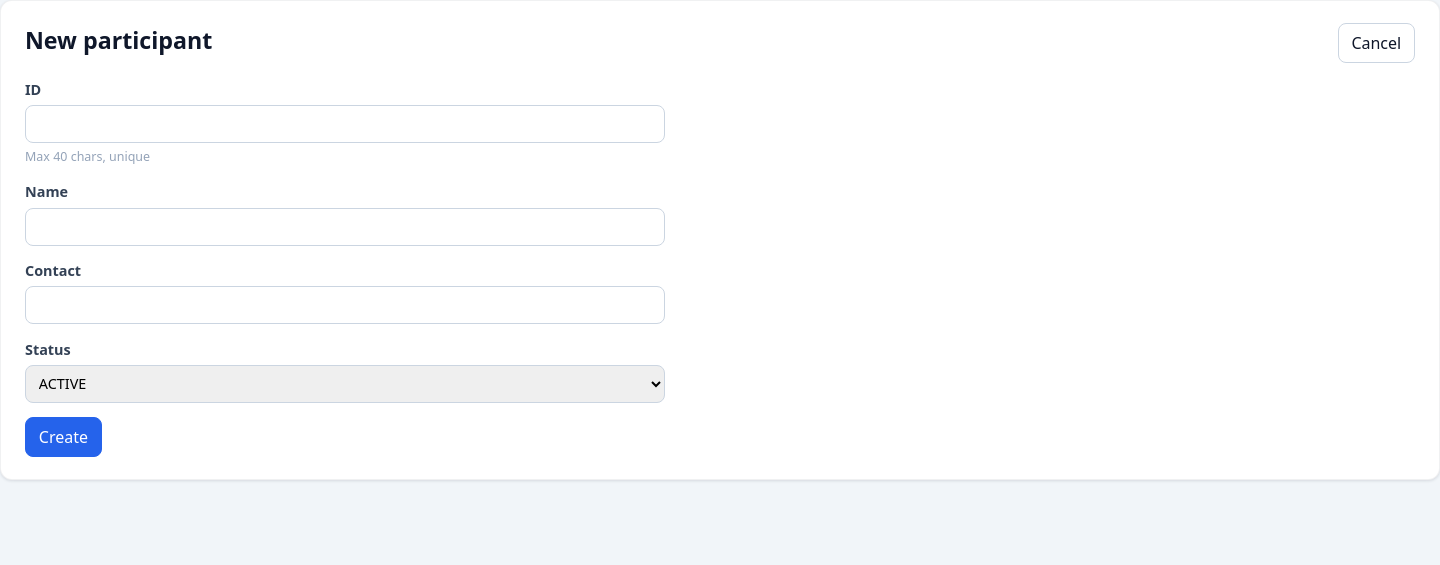
Test case: ParticipantFormPage › shows create API error
The width and height of the screenshot is (1440, 565).
Step 1. Type "dup" into the field labelled "ID Max 40 chars, unique" → x=345, y=124, box [25,105,665,143]
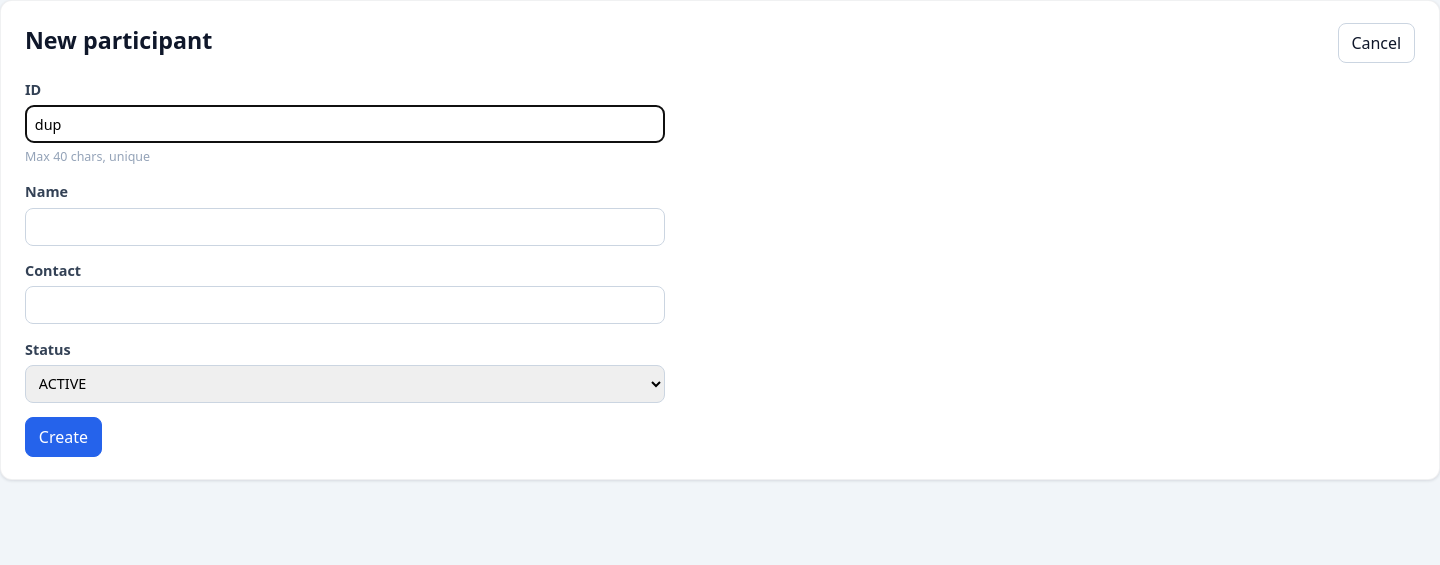
Step 2. Type "Dup" into the field labelled "Name" → x=345, y=227, box [25,208,665,246]
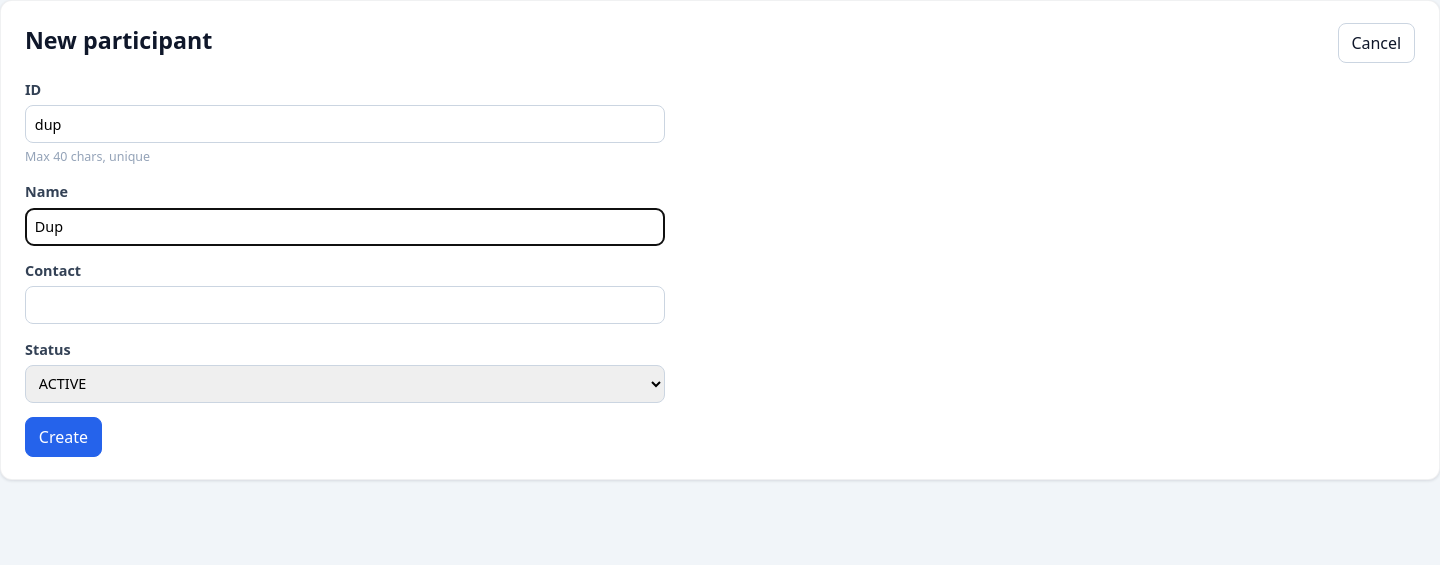
Step 3. Click the button "Create" → x=63, y=437, box [25,417,102,457]
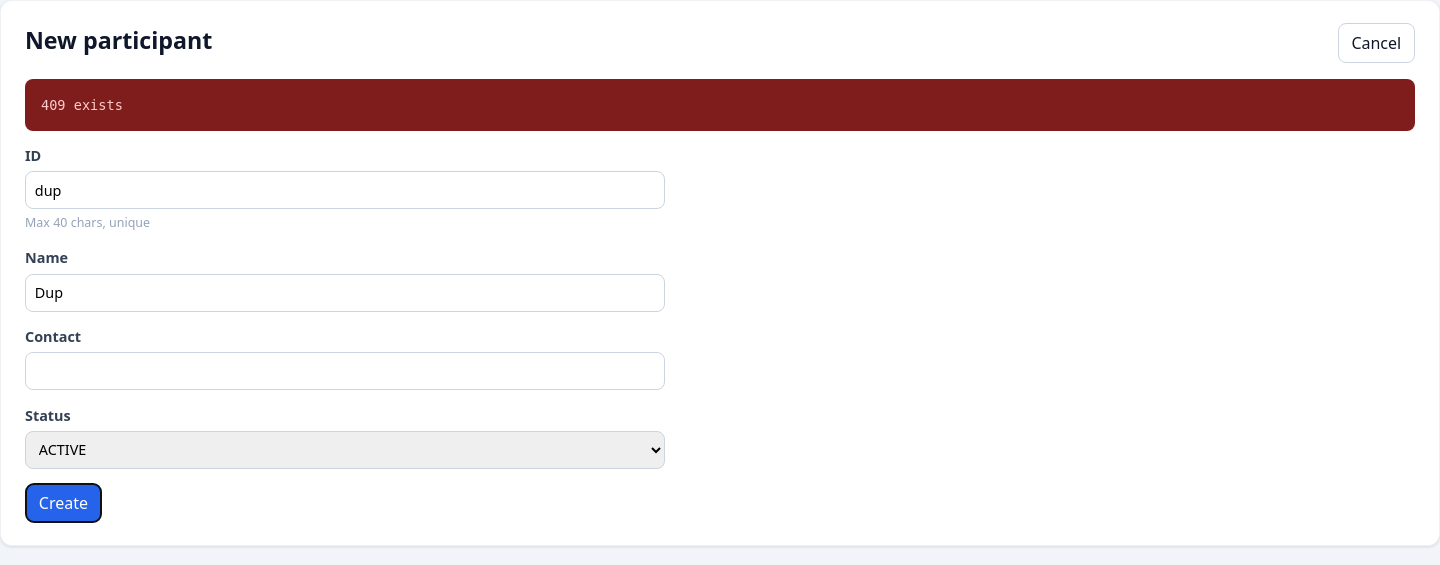
Now the text "409 exists" is shown, box [25,79,1415,131]
